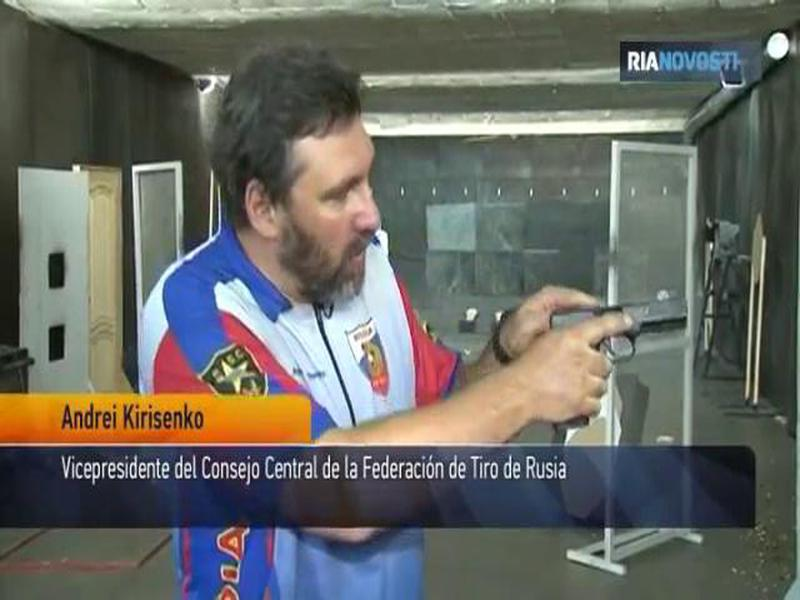Pistola: (515, 291, 704, 428)
